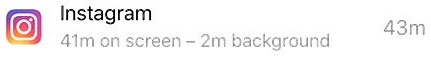name: (56, 3, 162, 27)
time: (56, 30, 99, 53), (197, 29, 230, 56)
